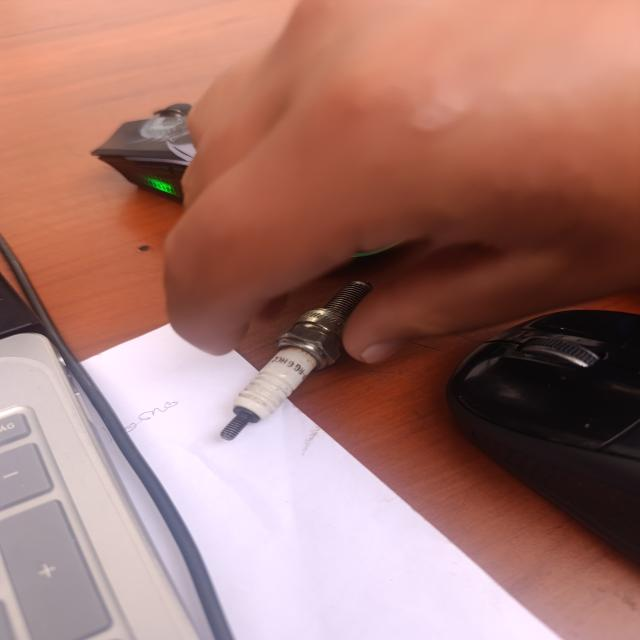bujia: (221, 281, 372, 440)
